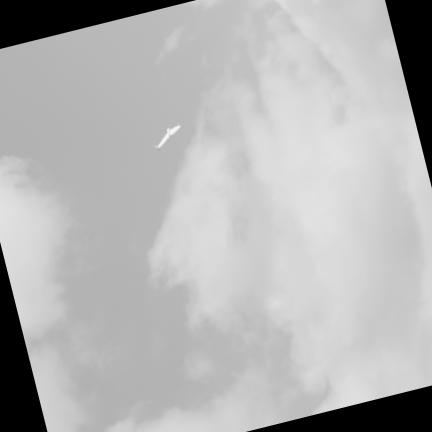Shahed: (154, 122, 181, 149)
